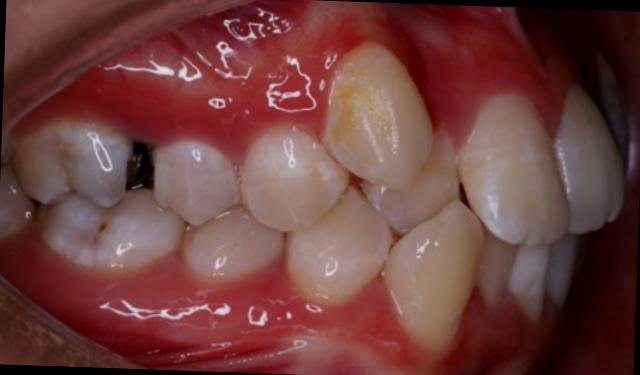canine class II 1/4: (272, 29, 496, 375)
molar class I: (5, 114, 188, 292)
